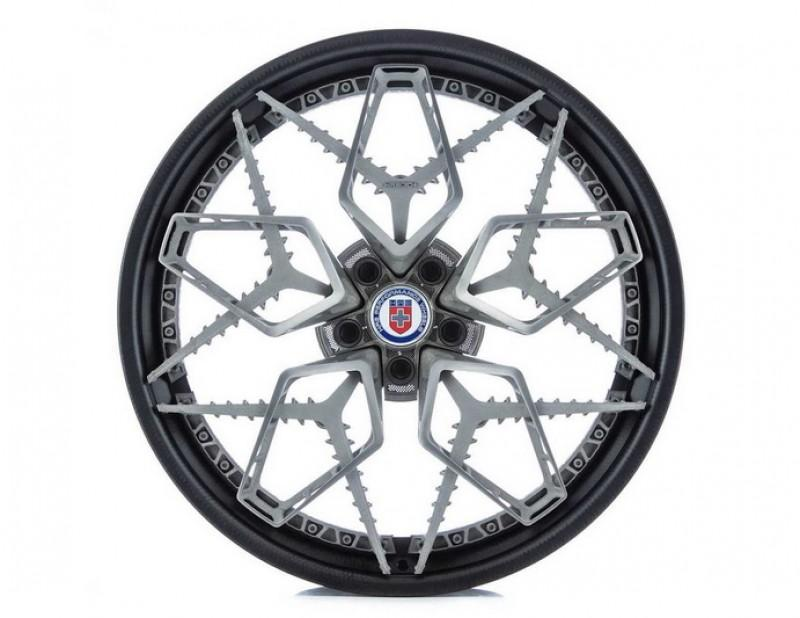hole: (437, 316, 468, 347), (418, 256, 448, 287), (352, 258, 381, 288), (334, 318, 362, 348), (386, 356, 415, 384)
